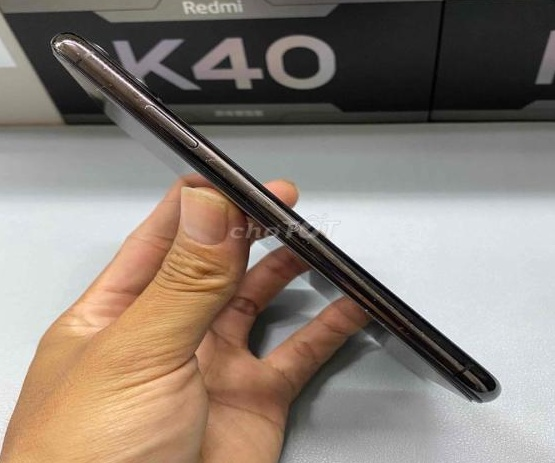scratch: (63, 39, 145, 102), (189, 149, 241, 177), (389, 314, 441, 338), (355, 300, 378, 321)
